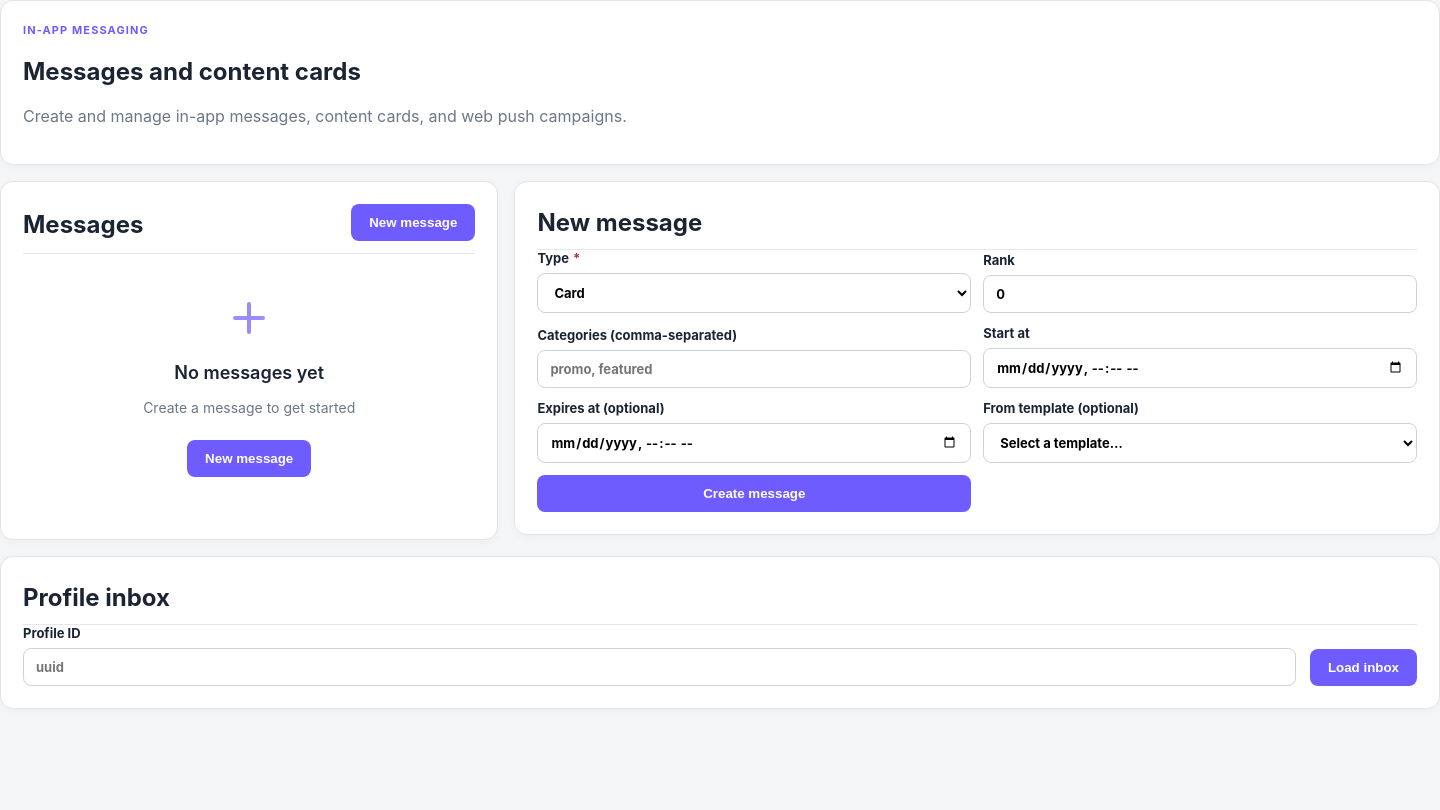
Test: Messaging section › creates an in-app message and refreshes the list
Click the button "Create message" at (754, 493), box 537,475 -> 971,512
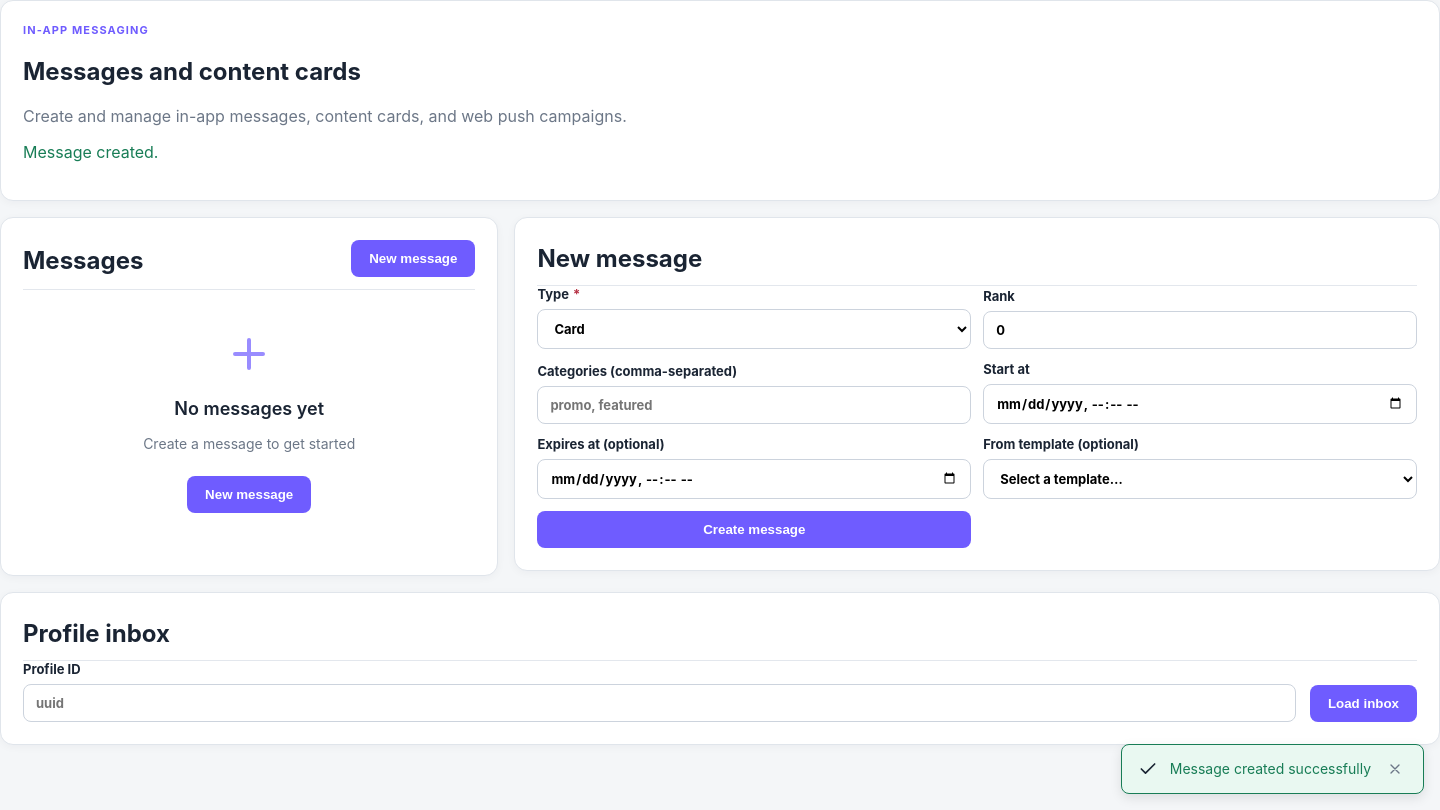
Expected: the text "Message created." is shown, 23,142 -> 158,162
Expected: the text "Message created successfully" is shown, 1170,759 -> 1371,779
